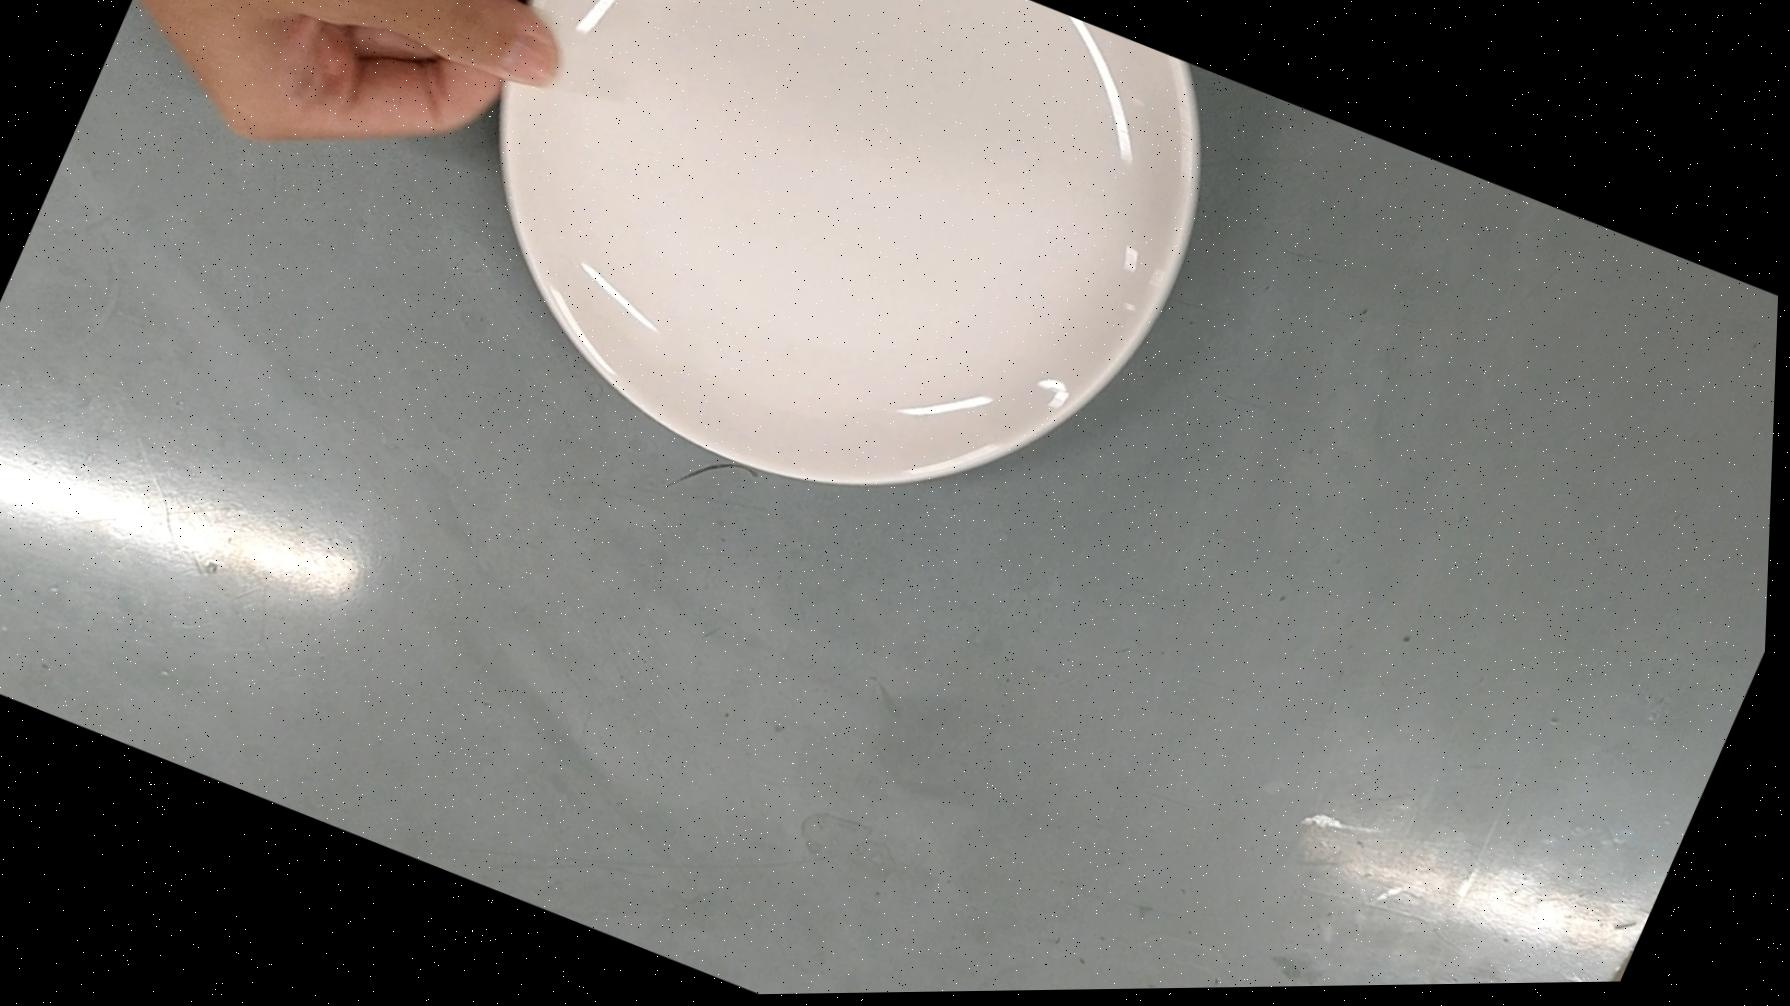plate: (380, 0, 1259, 591)
